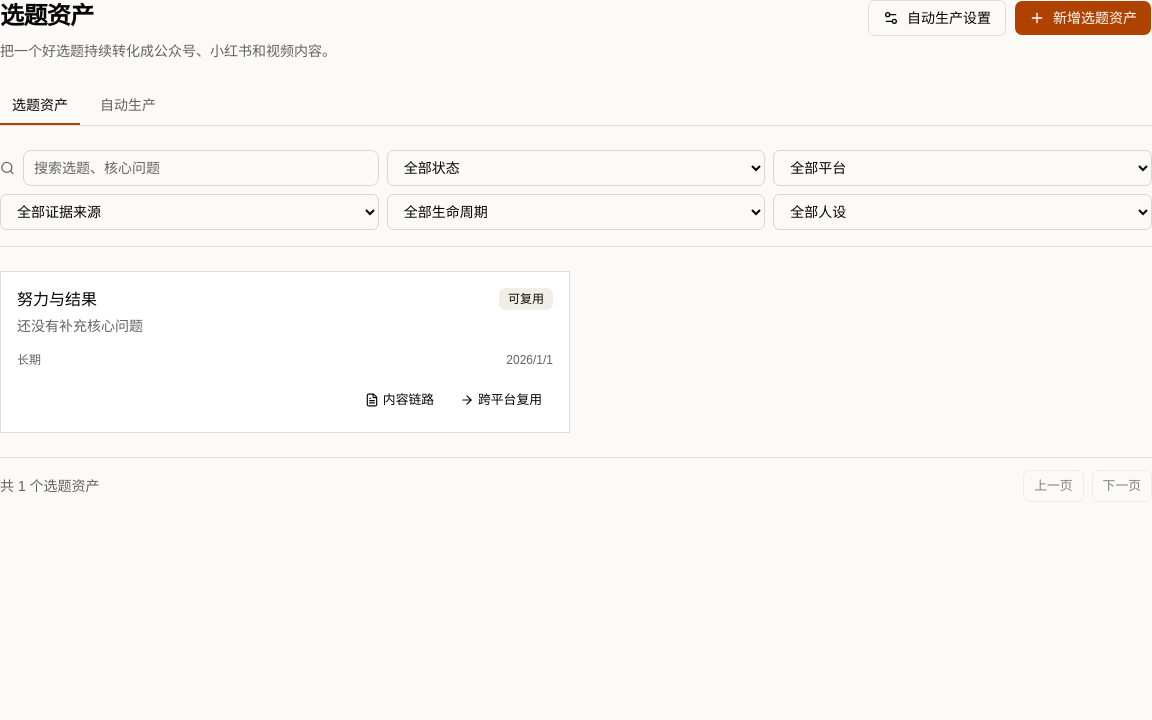
Test case: ContentAssetsPage › creates a cross-platform reuse run and supports pause and resume
Click the button "跨平台复用" at (501, 400), box [449,384,553,416]
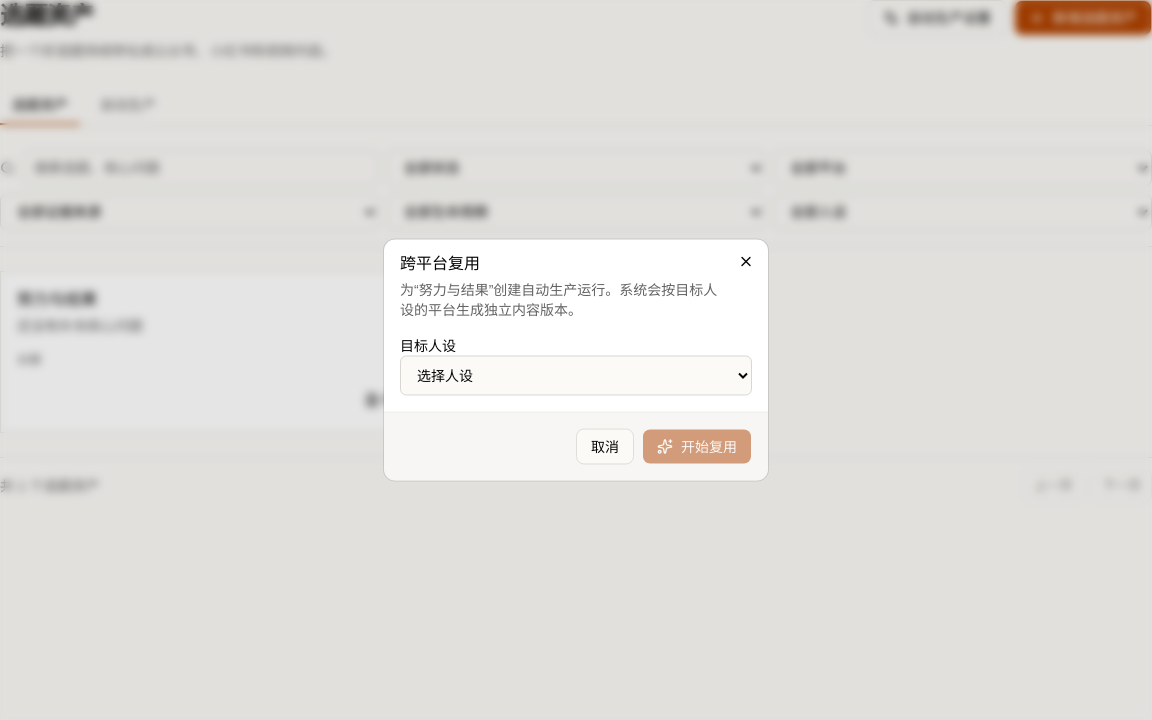
Select "我的视频号 · hypit" in the dropdown labelled "目标人设" at (576, 376), box [400,356,752,396]
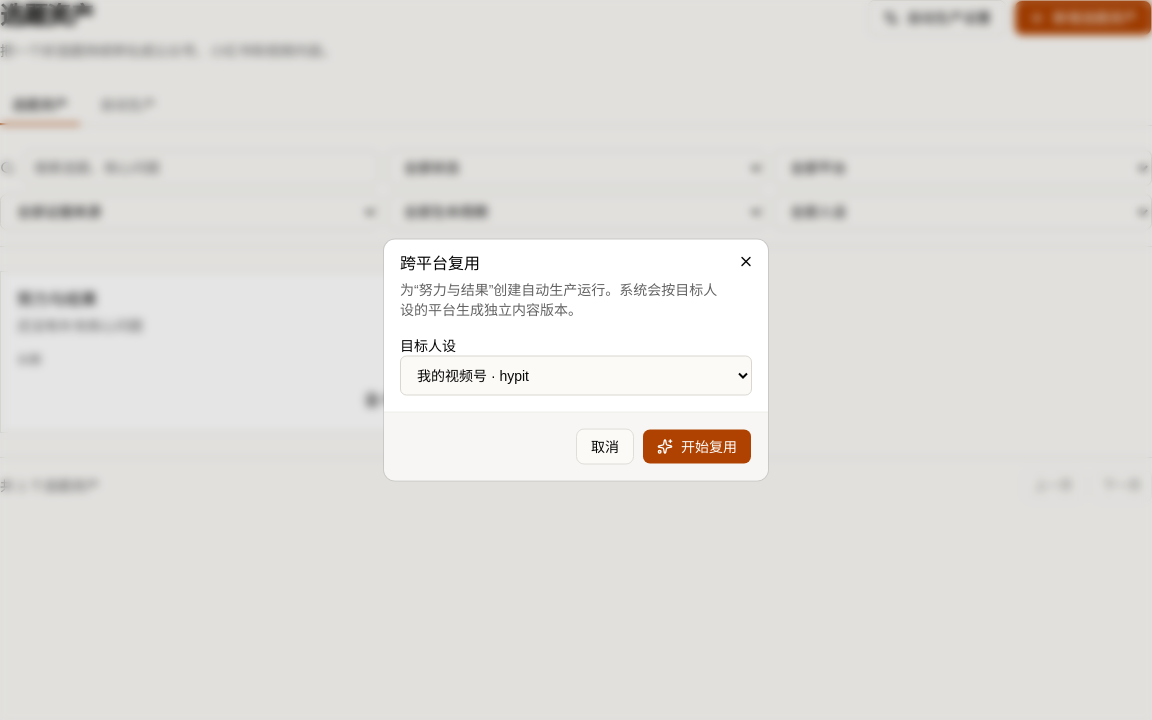
Click the button "开始复用" at (697, 446), box [642,428,752,464]
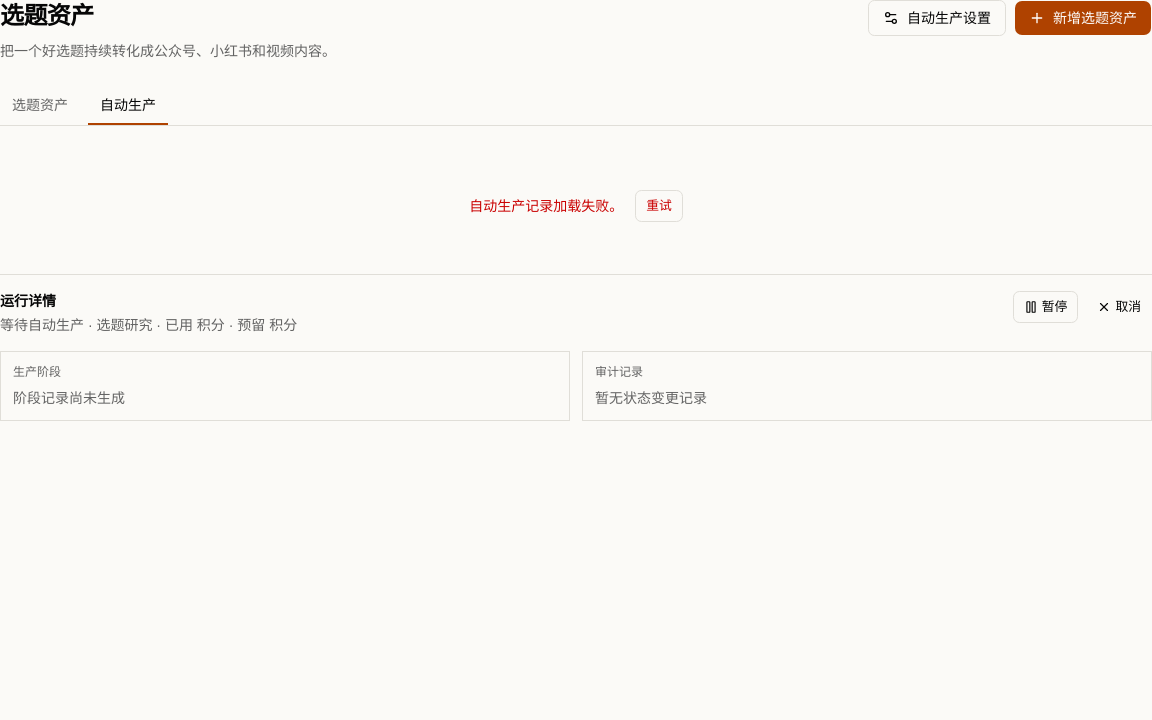
Result: the text "等待自动生产 · 选题研究 · 已用 积分 · 预留 积分" is shown at [0,315,297,335]
Click the button "暂停" at (1046, 307), box [1013,291,1078,323]
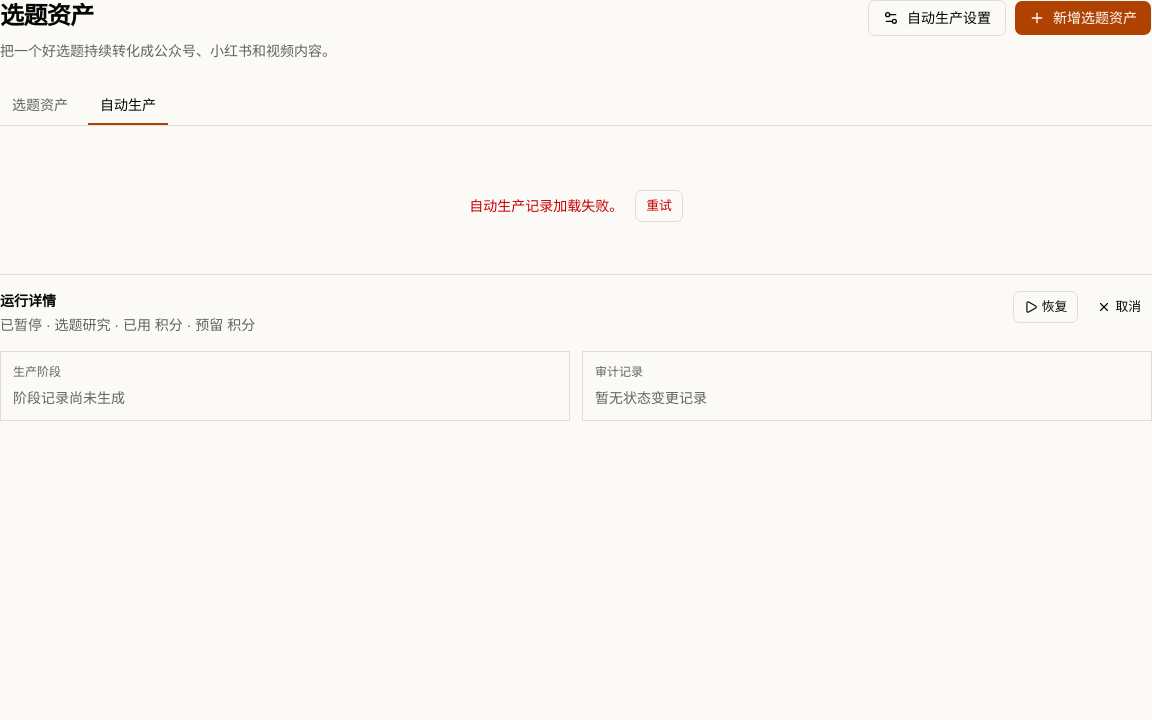
Result: the text "已暂停 · 选题研究 · 已用 积分 · 预留 积分" is shown at [0,315,255,335]
